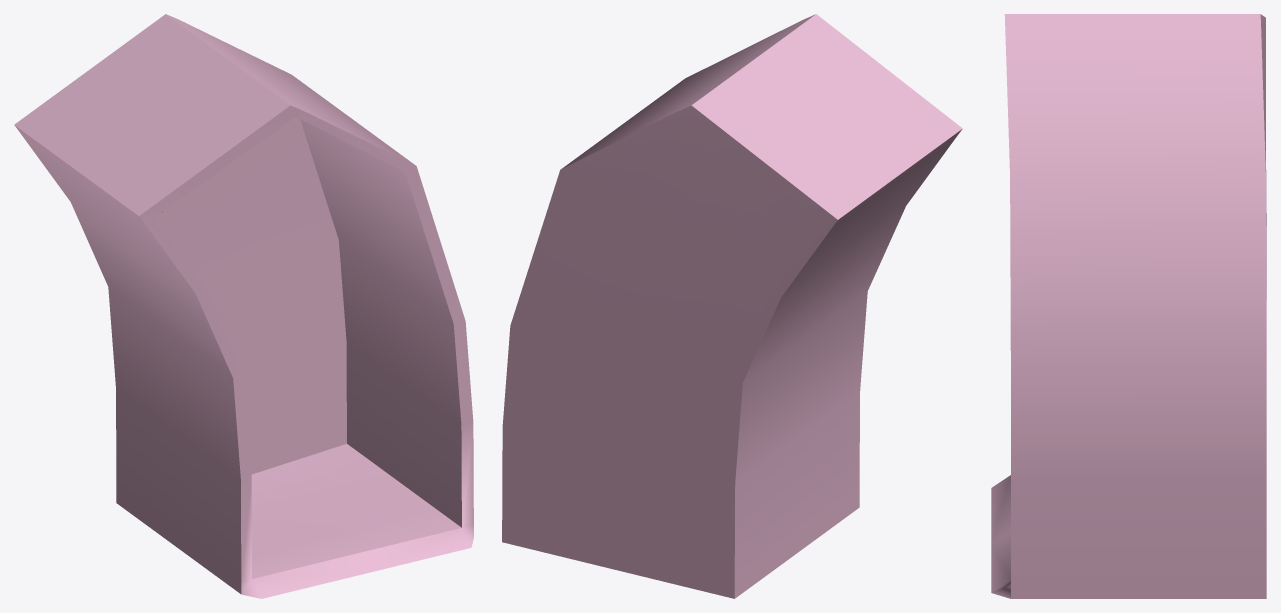
The model's file is Shower.fbx.
3 renders of one model, left to right at view 1: azimuth 30°, elevation 25°; view 2: azimuth 150°, elevation 25°; view 3: azimuth 270°, elevation 25°, orthographic. The views are drawn at different scales.
Visible parts, largest first — view 1: polySurface1; view 2: polySurface1; view 3: polySurface1.
Boxes of the visible parts, bbox=[...] form: polySurface1: bbox=[14, 14, 473, 598]; polySurface1: bbox=[502, 14, 962, 598]; polySurface1: bbox=[991, 14, 1266, 598].
Bounding box in the file's own units: 139 × 190 × 96.59.
